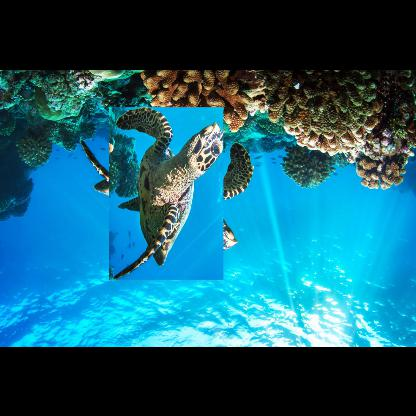turtle: (95, 121, 238, 264)
